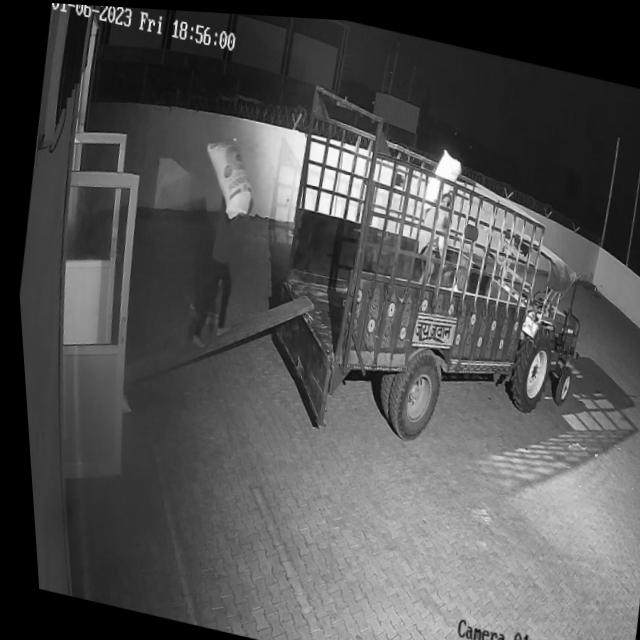sack: (191, 127, 261, 221)
